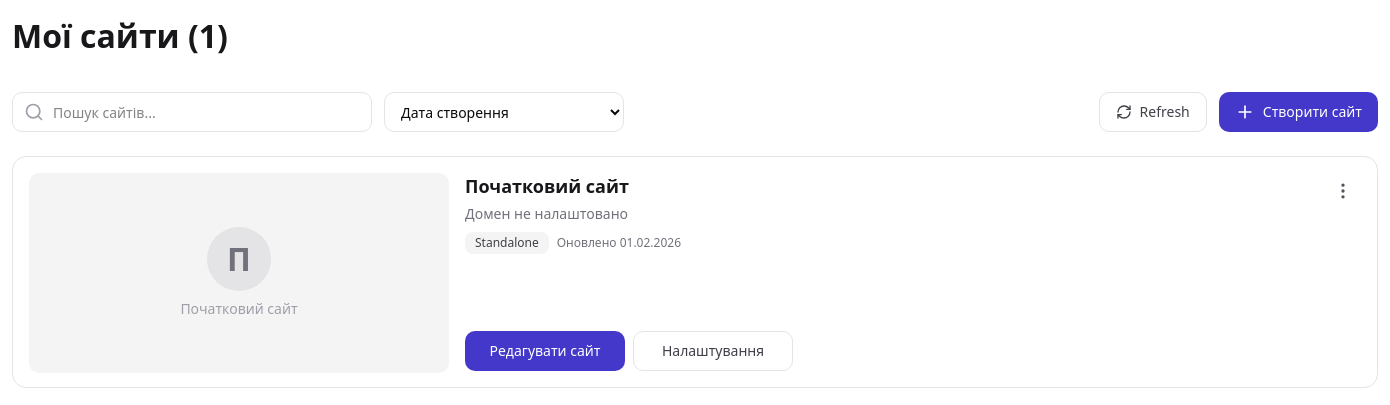
Test: SitesPage › refreshes sites list and prevents overlapping refresh requests
The width and height of the screenshot is (1390, 405).
Expected: the button "Початковий сайт" is shown, left=465, top=173, right=629, bottom=200
Click the button "Refresh".
click(1153, 112)  # box left=1099, top=92, right=1207, bottom=132
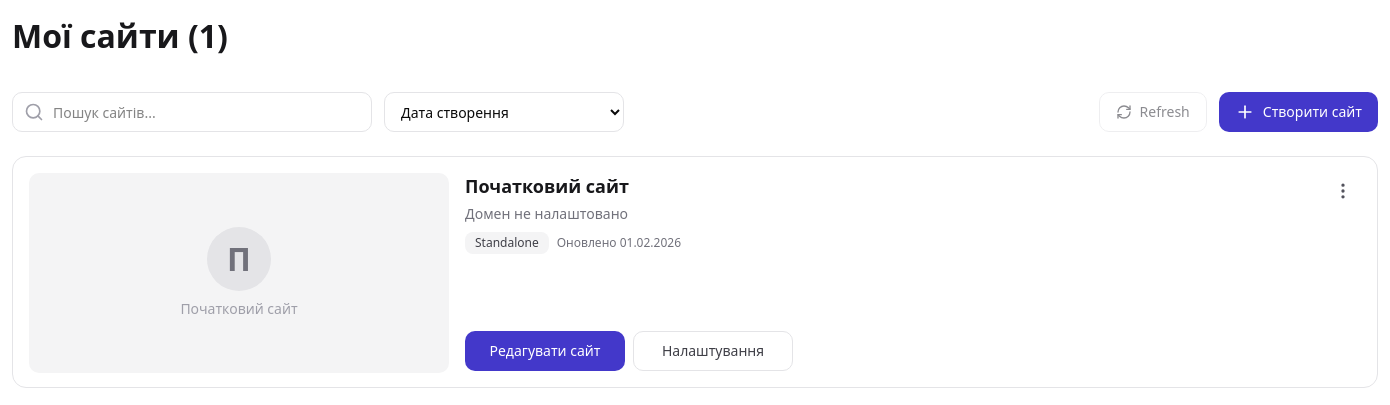
Now the button "Refresh" is disabled
Click the button "Refresh".
click(1153, 112)  # box left=1099, top=92, right=1207, bottom=132
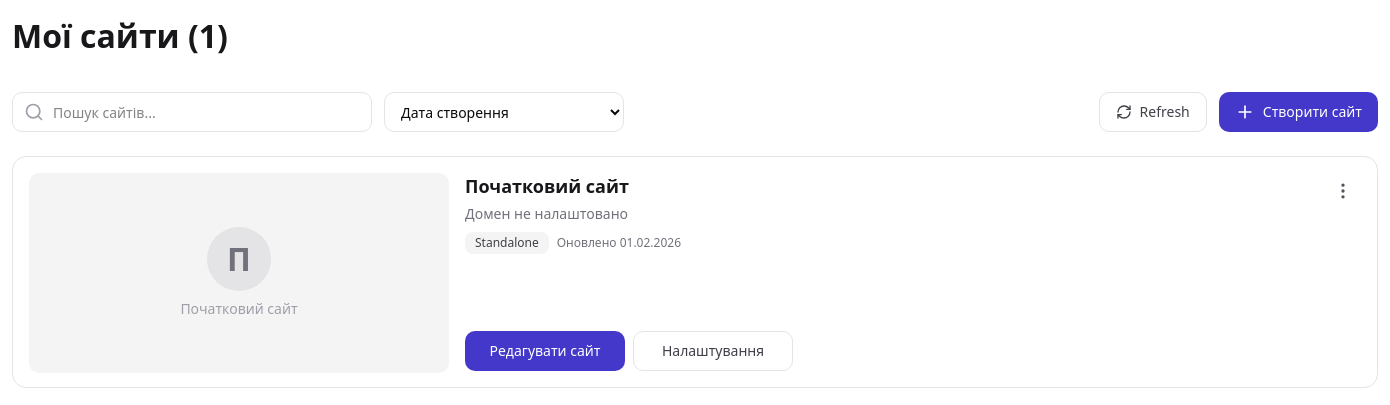
Now the button "Refresh" is enabled, box left=1099, top=92, right=1207, bottom=132
